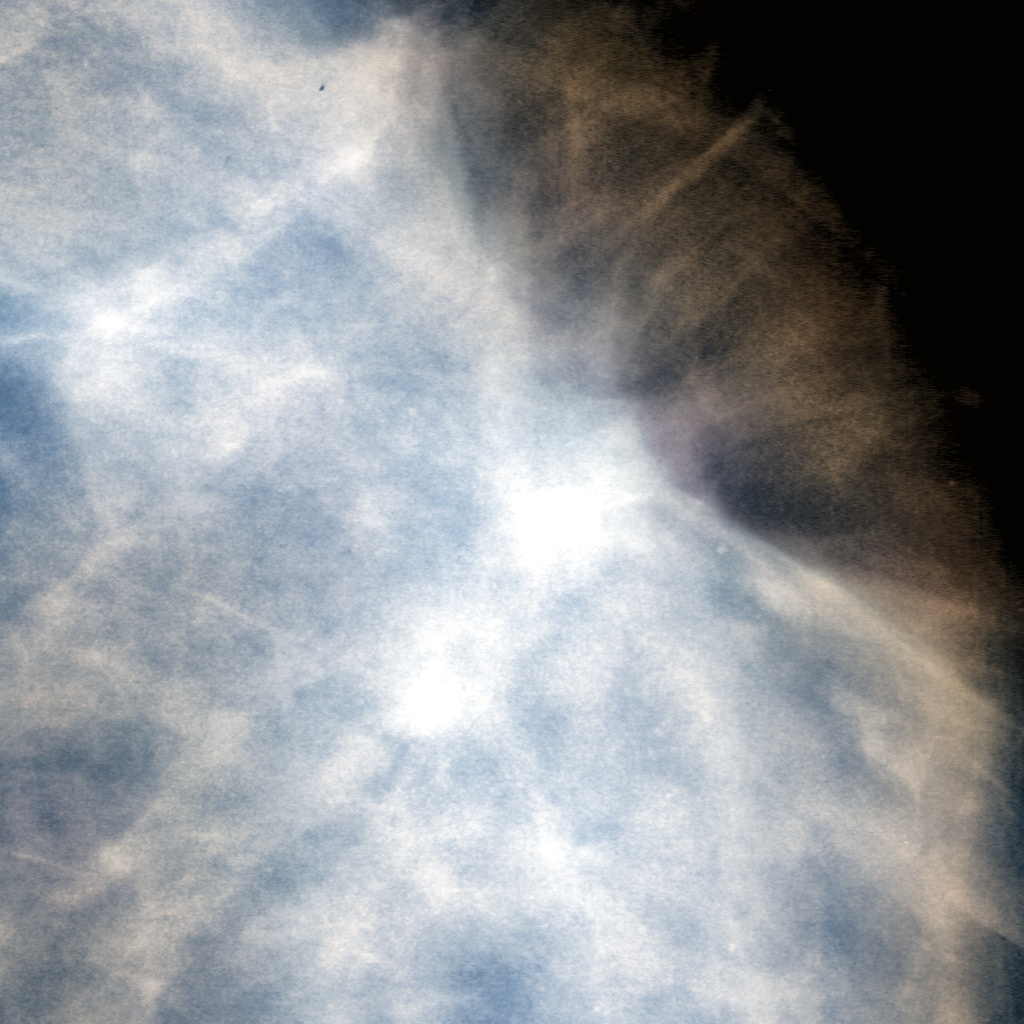tumor: (273, 277, 751, 747)
